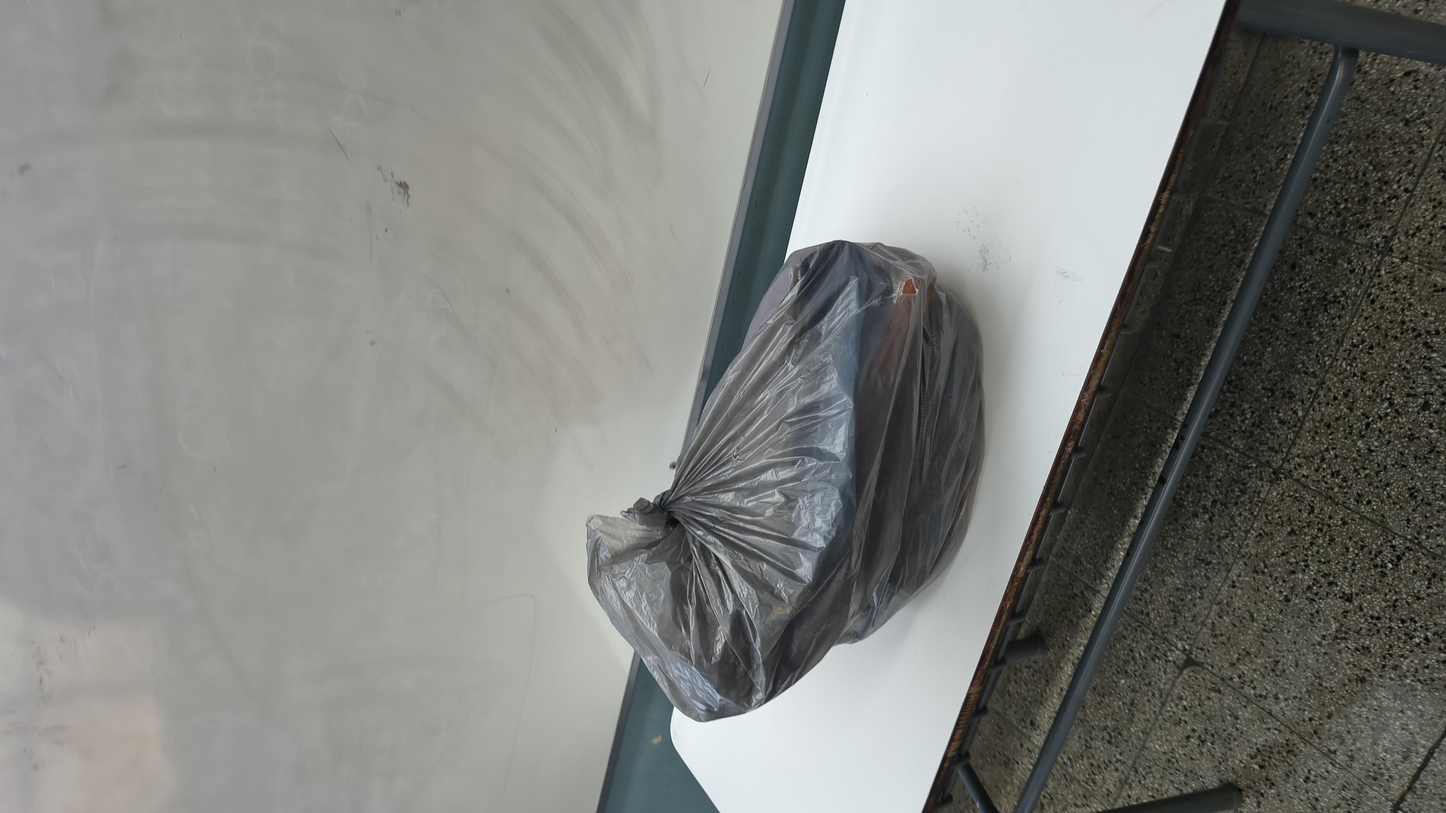Garbage: (94, 302, 1243, 619)
